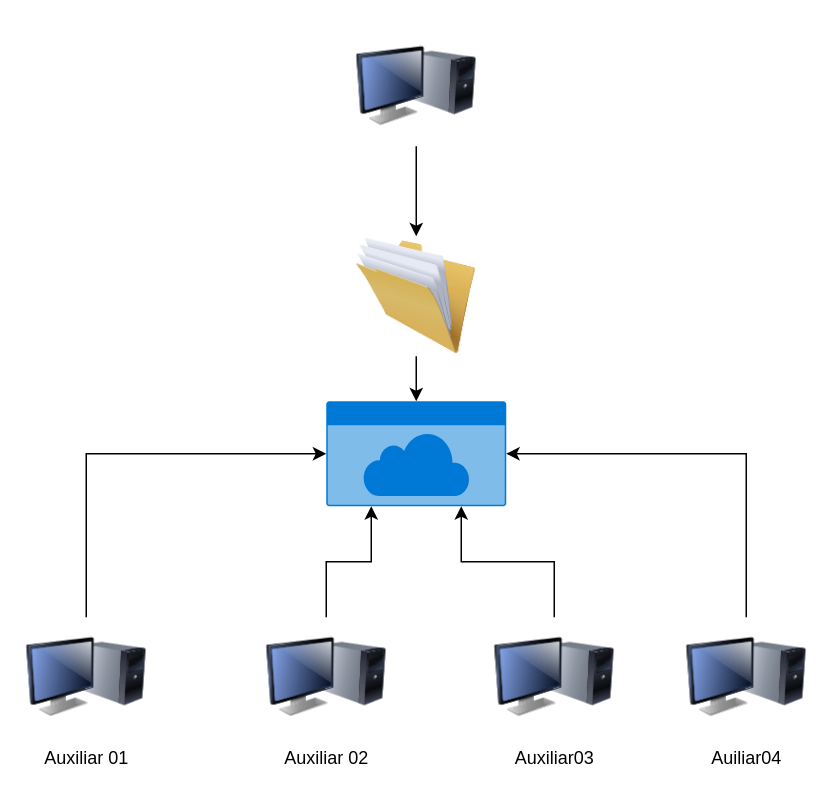
The diagram is 831 pixels wide and 794 high, and some of its shapes have lost their labels. The centre of each missing label's shape, as x and y in pixels:
"Google Drive" goes at point 416,453.
"Servicios Financieros y Contables" goes at point 416,86.
